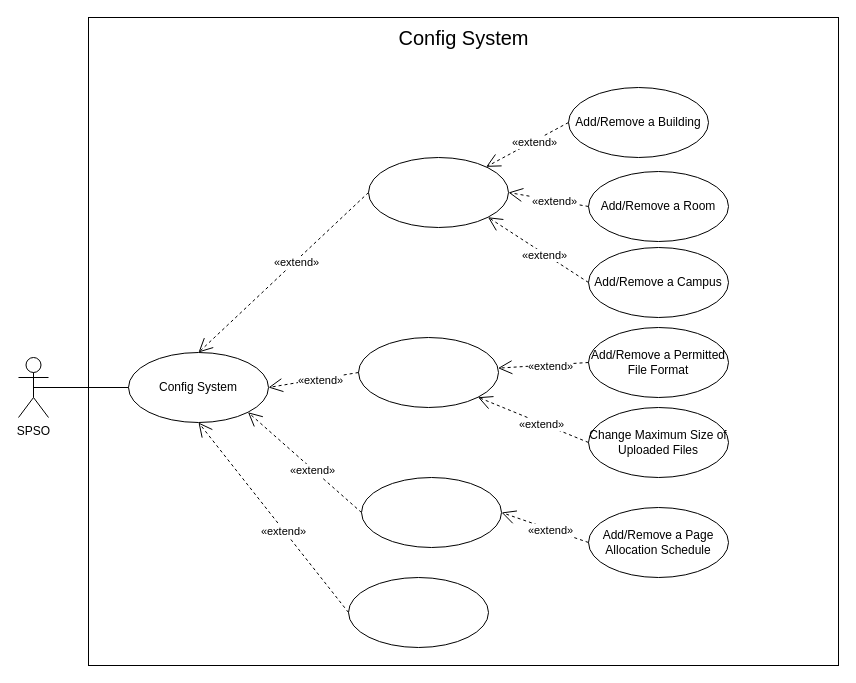
This 856x683 diagram has some shape labels left out. The shapes that lost their labels are listed below. From the top down, each one's centre as x and y in pixels, then its label:
At (438,192): "Config Printers' Location".
At (428,372): "Config File-Related Information".
At (431,512): "Config Page Allocation".
At (418,612): "Config Page Unit Price".
